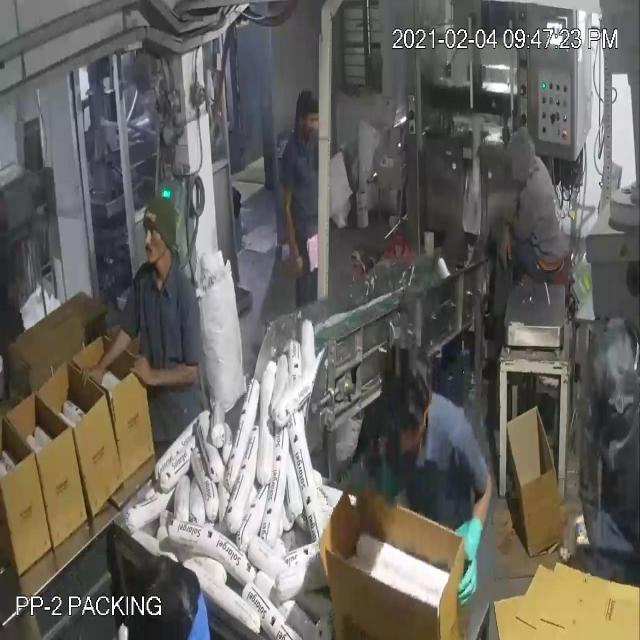gloves: (448, 505, 488, 613)
no-gloves: (127, 338, 203, 401), (72, 322, 130, 401), (275, 180, 313, 290), (500, 206, 518, 276)
